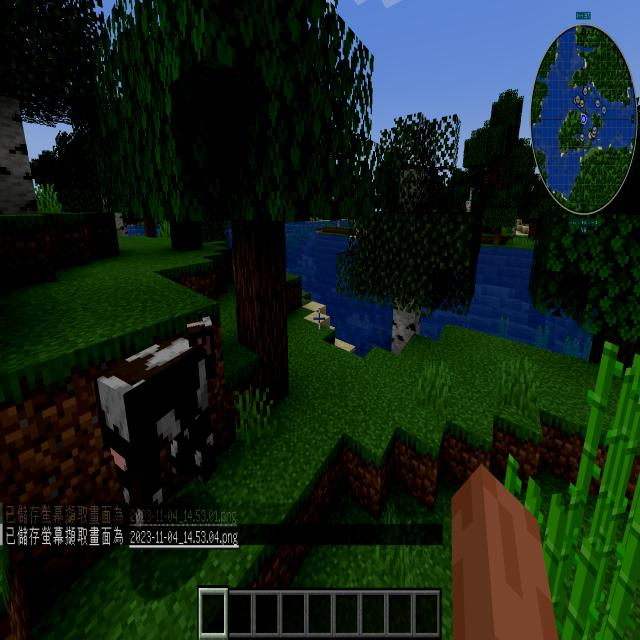cow: (81, 303, 262, 547)
